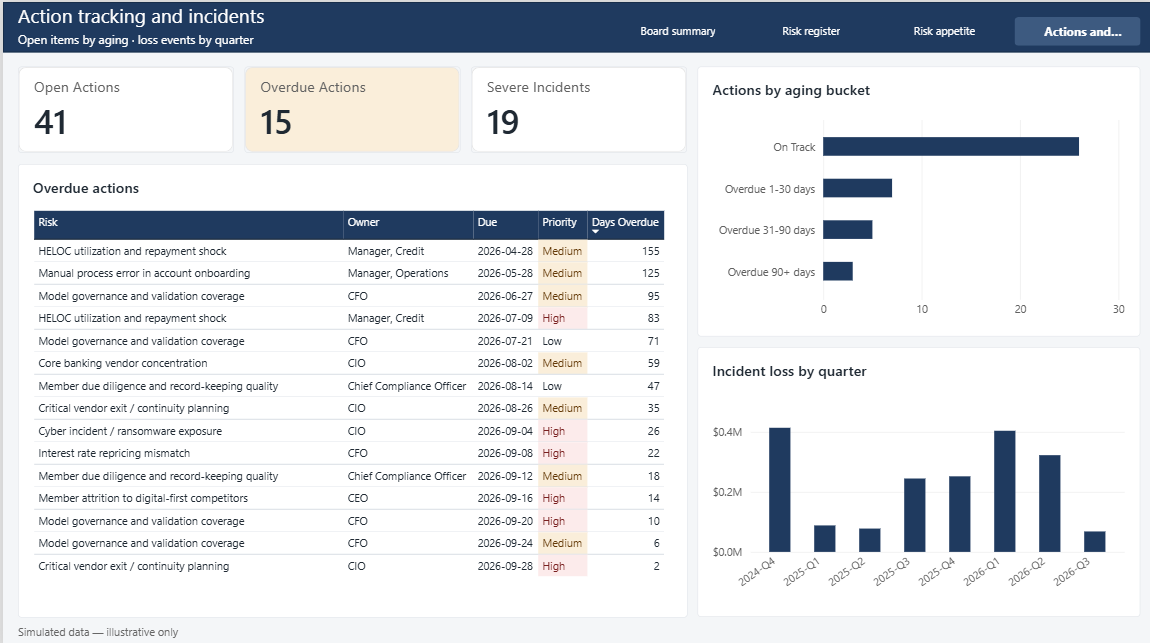

Layout of this report page (visuals, bound fields, positions):
{"tool":"powerbi","page":{"name":"Actions and incidents","canvas":[1280,720],"ordinal":3},"visuals":[{"type":"shape","box":[0,0,1280,56],"z":0},{"type":"textbox","box":[16,0,288,48],"z":1000},{"type":"textbox","box":[16,32,288,32],"z":2000},{"type":"cardVisual","fields":{"Data":["_Measures.Open Actions"]},"box":[16,72,240,96],"z":3000},{"type":"cardVisual","fields":{"Data":["_Measures.Overdue Actions"]},"box":[268,72,240,96],"z":4000},{"type":"cardVisual","fields":{"Data":["_Measures.Severe Incidents"]},"box":[520,72,240,96],"z":5000},{"type":"barChart","title":"Actions by aging bucket","fields":{"Category":["public vw_action_aging.aging_bucket"],"Y":["CountNonNull(public vw_action_aging.action_id)"]},"box":[772,72,492,300],"z":6000},{"type":"tableEx","title":"Overdue actions","fields":{"Values":["public dim_risk.risk_title","public vw_action_aging.owner","public vw_action_aging.due_date","public vw_action_aging.priority","Sum(public vw_action_aging.days_past_due)"]},"box":[16,180,744,504],"z":7000},{"type":"clusteredColumnChart","title":"Incident loss by quarter","fields":{"Category":["public dim_quarter.quarter"],"Y":["_Measures.Total Loss"]},"box":[772,384,492,300],"z":8000},{"type":"textbox","box":[16,692,400,20],"z":9000},{"type":"pageNavigator","box":[680,16,584,32],"z":10000}]}

Visuals, with their boxes in screenshot pixels (x1, y1, x2, y2), scaled from the page's 1280x720 canvas onto the 1150x643 screenshot:
shape: (x1=0, y1=0, x2=1149, y2=50)
textbox: (x1=14, y1=0, x2=273, y2=43)
textbox: (x1=14, y1=29, x2=273, y2=57)
cardVisual - _Measures.Open Actions: (x1=14, y1=64, x2=230, y2=150)
cardVisual - _Measures.Overdue Actions: (x1=241, y1=64, x2=456, y2=150)
cardVisual - _Measures.Severe Incidents: (x1=467, y1=64, x2=683, y2=150)
"Actions by aging bucket" barChart: (x1=694, y1=64, x2=1136, y2=332)
"Overdue actions" tableEx: (x1=14, y1=161, x2=683, y2=611)
"Incident loss by quarter" clusteredColumnChart: (x1=694, y1=343, x2=1136, y2=611)
textbox: (x1=14, y1=618, x2=374, y2=636)
pageNavigator: (x1=611, y1=14, x2=1136, y2=43)
